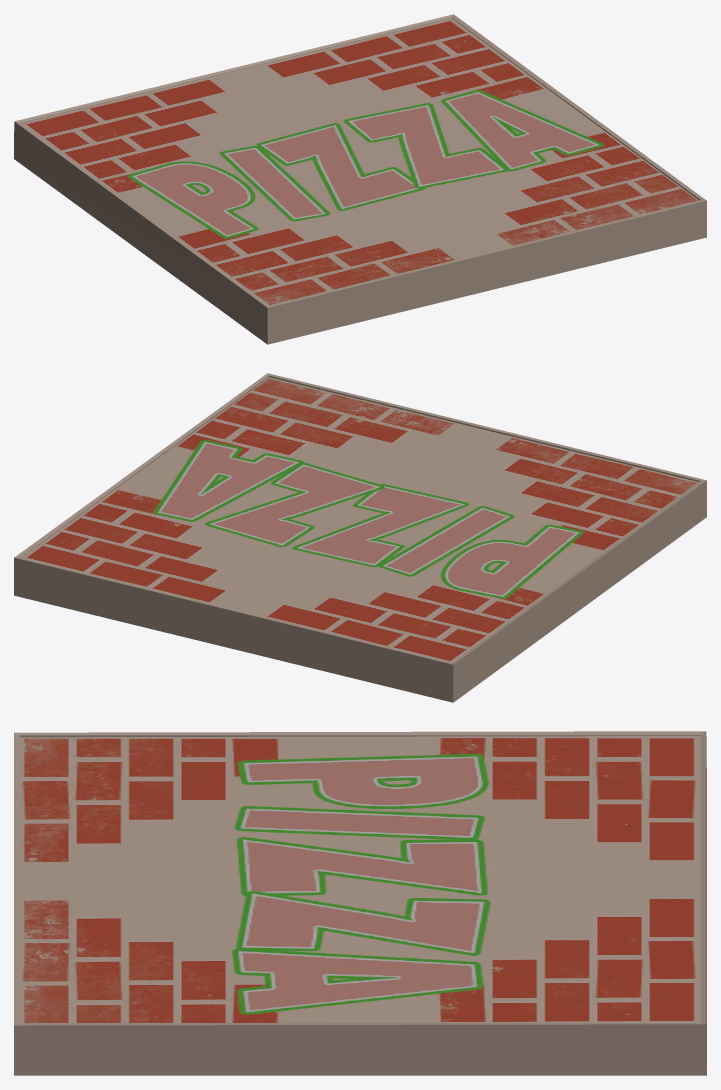
File: pizza box.glb
The picture shows the model from 3 angles, top to bottom: view 1: azimuth 30°, elevation 25°; view 2: azimuth 150°, elevation 25°; view 3: azimuth 270°, elevation 25°; orthographic projection. The views are drawn at different scales.
Visible parts, largest first — view 1: PizzaBox_Closed; view 2: PizzaBox_Closed; view 3: PizzaBox_Closed.
Boxes of the visible parts, x1=… form: PizzaBox_Closed: x1=14, y1=14, x2=706, y2=344; PizzaBox_Closed: x1=14, y1=373, x2=706, y2=702; PizzaBox_Closed: x1=14, y1=731, x2=706, y2=1075.
Bounding box in the file's own units: 0.5001 × 0.0411 × 0.5.
Materials: 1 (1 with a texture image).
